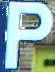Parking: (5, 0, 51, 71)
